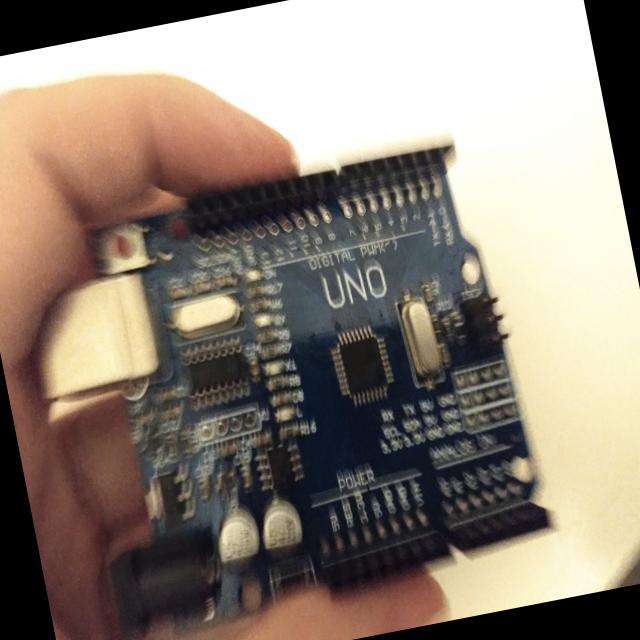arduino: (2, 126, 567, 640)
